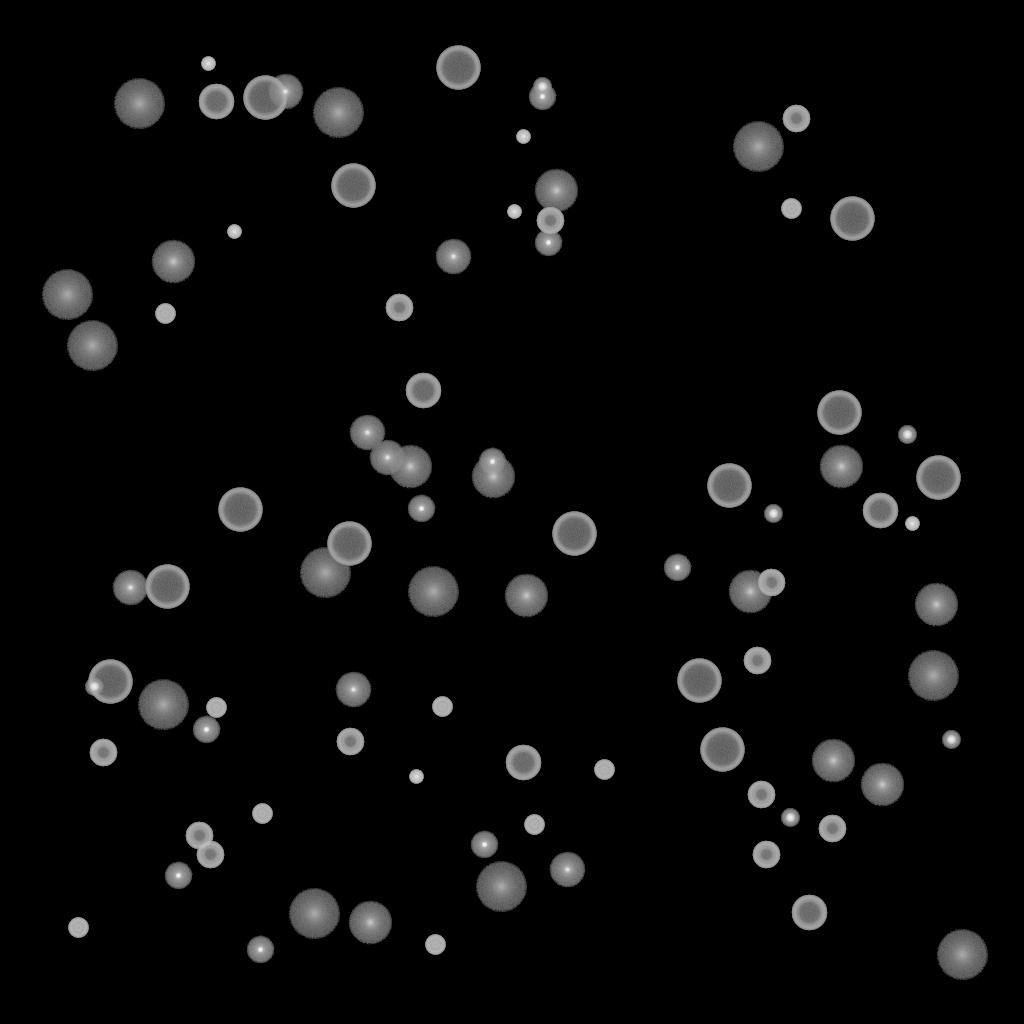depth:-10: (663, 554, 691, 582), (164, 862, 192, 890), (478, 448, 506, 476), (407, 495, 435, 523), (246, 936, 274, 964), (470, 831, 498, 859), (192, 716, 220, 744), (534, 229, 562, 257), (528, 83, 556, 111)
depth:-20: (533, 78, 551, 96), (898, 426, 916, 444), (942, 731, 960, 749), (85, 678, 103, 696), (764, 505, 782, 523), (781, 809, 799, 827)
depth:-30: (409, 770, 423, 784), (516, 130, 530, 144), (201, 57, 215, 71), (507, 205, 521, 219), (905, 517, 919, 531), (227, 225, 241, 239)
depth:-40: (524, 815, 544, 835), (594, 760, 614, 780), (425, 935, 445, 955), (68, 918, 88, 938), (252, 804, 272, 824), (206, 698, 226, 718), (432, 697, 452, 717), (155, 304, 175, 324), (781, 199, 801, 219)
depth:-50: (89, 739, 117, 767), (196, 841, 224, 869), (536, 207, 564, 235), (752, 841, 780, 869), (336, 728, 364, 756), (743, 647, 771, 675), (385, 294, 413, 322), (782, 105, 810, 133), (757, 569, 785, 597), (185, 822, 213, 850), (747, 781, 775, 809), (818, 815, 846, 843)
depth:-60: (862, 493, 898, 529), (198, 84, 234, 120), (791, 895, 827, 931), (505, 745, 541, 781), (405, 373, 441, 409)
depth:-70: (817, 391, 861, 435), (830, 197, 874, 241), (700, 728, 744, 772), (145, 565, 189, 609), (331, 164, 375, 208), (327, 522, 371, 566), (243, 76, 287, 120), (707, 464, 751, 508), (677, 659, 721, 703), (552, 512, 596, 556), (436, 46, 480, 90), (916, 456, 960, 500), (88, 660, 132, 704), (218, 488, 262, 532)
depth:0: (112, 570, 148, 606), (435, 239, 471, 275), (267, 74, 303, 110), (335, 672, 371, 708), (549, 852, 585, 888), (369, 440, 405, 476), (349, 415, 385, 451)
depth:10: (534, 169, 578, 213), (914, 583, 958, 627), (811, 739, 855, 783), (471, 455, 515, 499), (348, 901, 392, 945), (728, 570, 772, 614), (819, 445, 863, 489), (504, 574, 548, 618), (151, 240, 195, 284), (860, 763, 904, 807), (388, 445, 432, 489)
depth:20: (41, 270, 93, 320), (475, 862, 527, 912), (288, 889, 340, 939), (113, 79, 165, 129), (312, 88, 364, 138), (936, 930, 988, 980), (907, 651, 959, 701), (137, 680, 189, 730), (732, 122, 784, 172), (407, 567, 459, 617), (66, 321, 118, 371), (299, 548, 351, 598)
